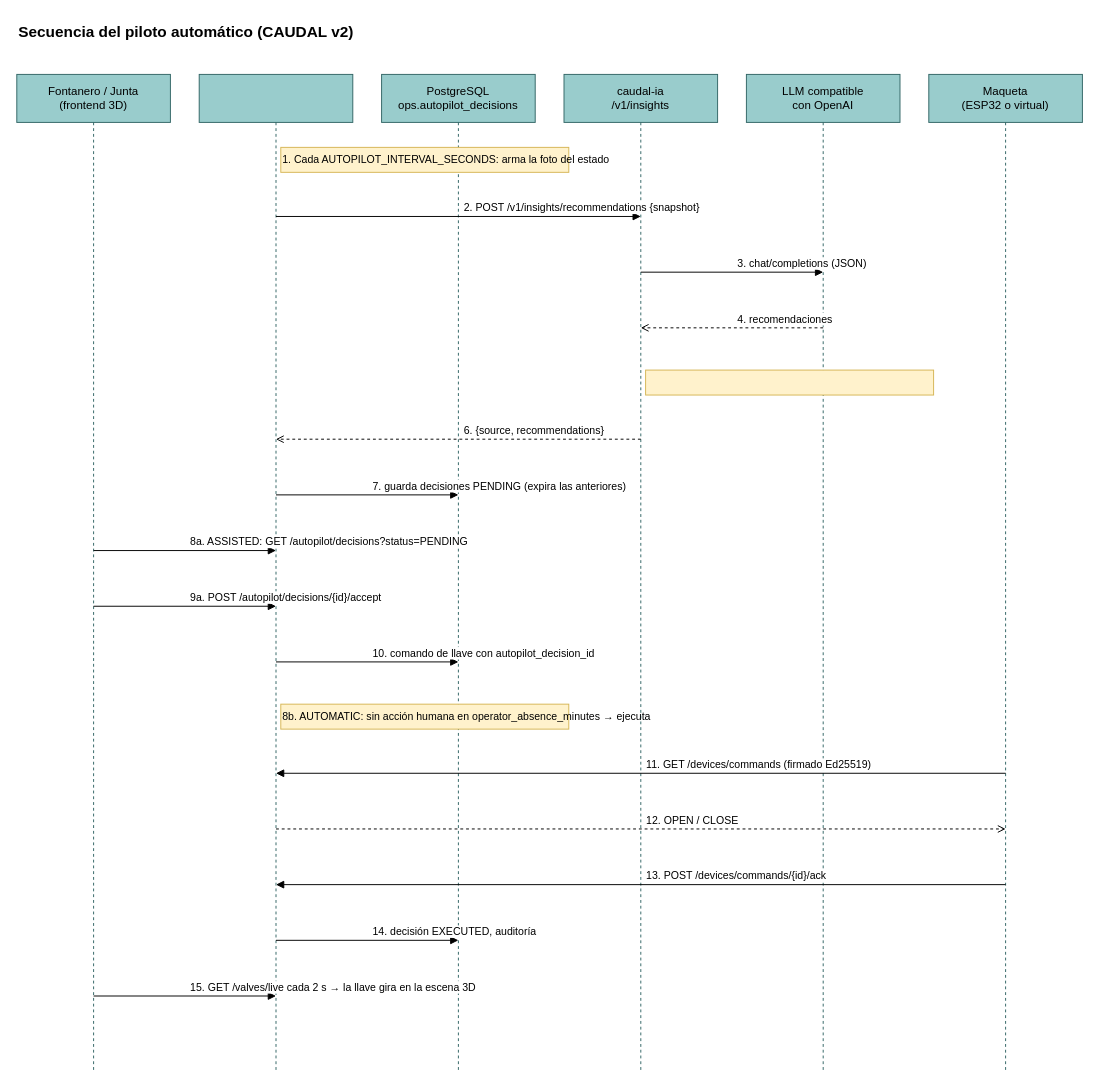
This 1099x1090 diagram has some shape labels left out. Each missing label, with the centre of its shape:
"5. valida esquema + guarda del piso de reserva (si falla: RULES)" goes at [789,382].
"caudal-backend AutopilotRunner" goes at [275,573].
